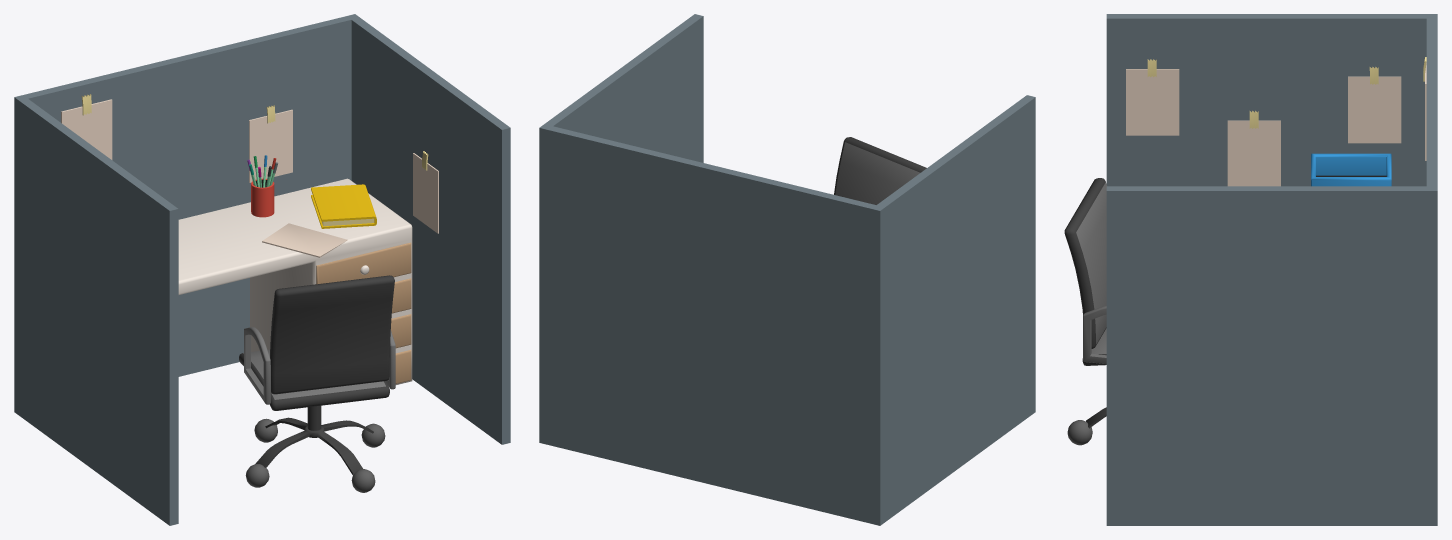
Rendered from Office-Desk.fbx.
3 views of the same model, side by side, from view 1: azimuth 30°, elevation 25°; view 2: azimuth 150°, elevation 25°; view 3: azimuth 270°, elevation 25° (orthographic). The views are drawn at different scales.
Parts seen in each view (by area): view 1: Office-Paravane, Chair-3, Table-3, Book-2, Papper-, Pencil-Case-2; view 2: Office-Paravane, Chair-3; view 3: Office-Paravane, Chair-3, Box.
Boxes of the visible parts, bbox=[...] form: Office-Paravane: bbox=[14, 14, 510, 525]; Chair-3: bbox=[239, 275, 395, 492]; Table-3: bbox=[178, 178, 412, 386]; Book-2: bbox=[311, 184, 376, 228]; Papper-: bbox=[262, 223, 347, 257]; Pencil-Case-2: bbox=[251, 178, 274, 217]; Office-Paravane: bbox=[539, 14, 1035, 525]; Chair-3: bbox=[834, 137, 926, 204]; Office-Paravane: bbox=[1106, 14, 1437, 525]; Chair-3: bbox=[1064, 178, 1106, 445]; Box: bbox=[1311, 153, 1391, 186].
Bounding box in the file's own units: 1.87 × 1.65 × 1.66.
